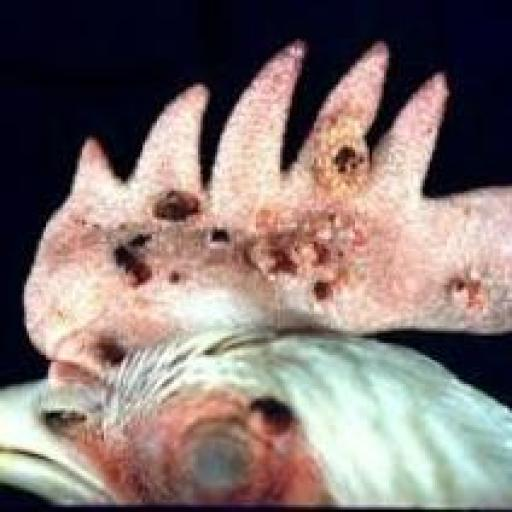disease: (147, 388, 301, 510), (64, 208, 228, 312), (229, 204, 376, 306), (436, 246, 510, 323), (146, 160, 208, 227), (329, 135, 388, 201), (97, 325, 150, 372)
